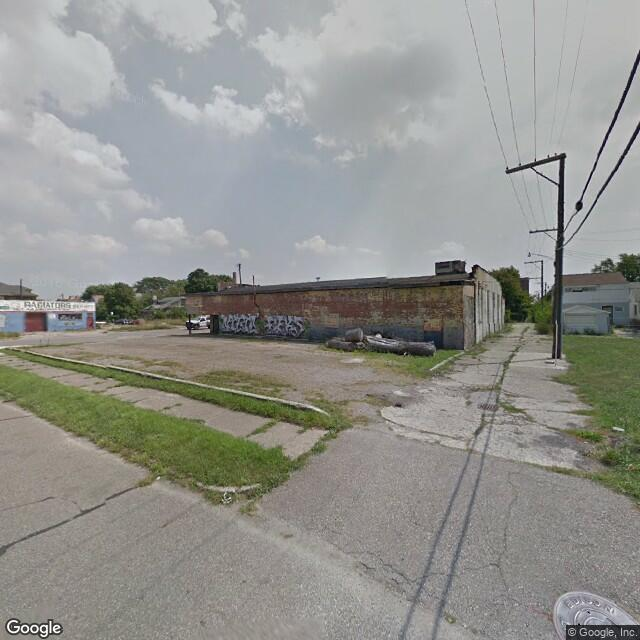litter: (221, 492, 233, 506), (613, 425, 625, 433), (154, 473, 163, 483)
